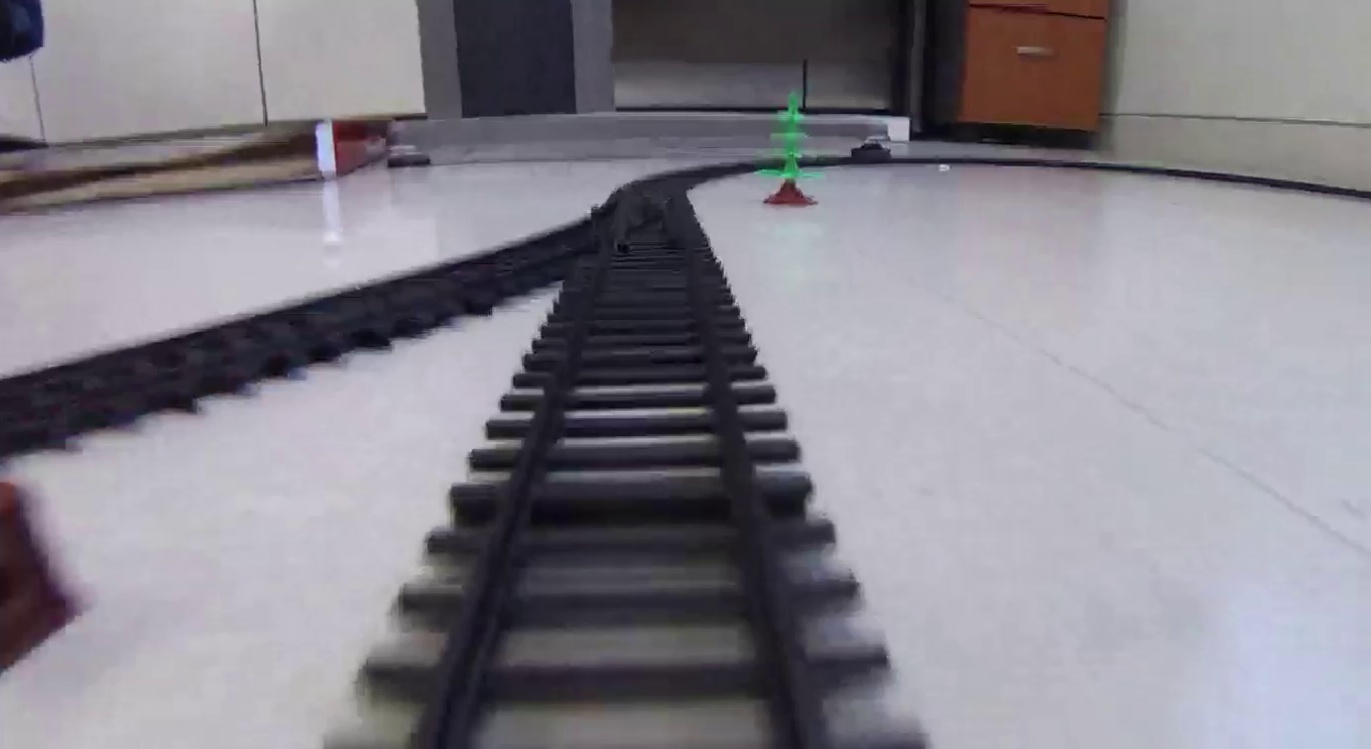tree: (757, 92, 822, 205)
